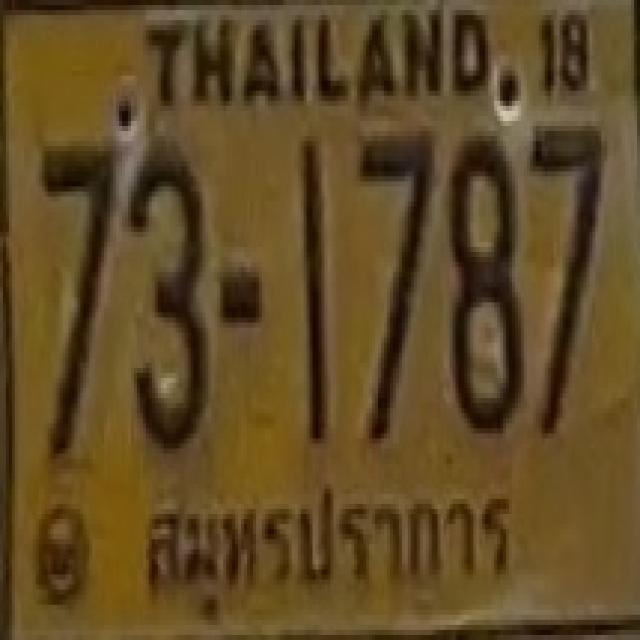1: (298, 139, 324, 441)
3: (126, 144, 204, 446)
7: (39, 141, 113, 454), (356, 131, 430, 438), (527, 121, 601, 428)
8: (446, 131, 518, 428)
SPK: (137, 472, 519, 597)
